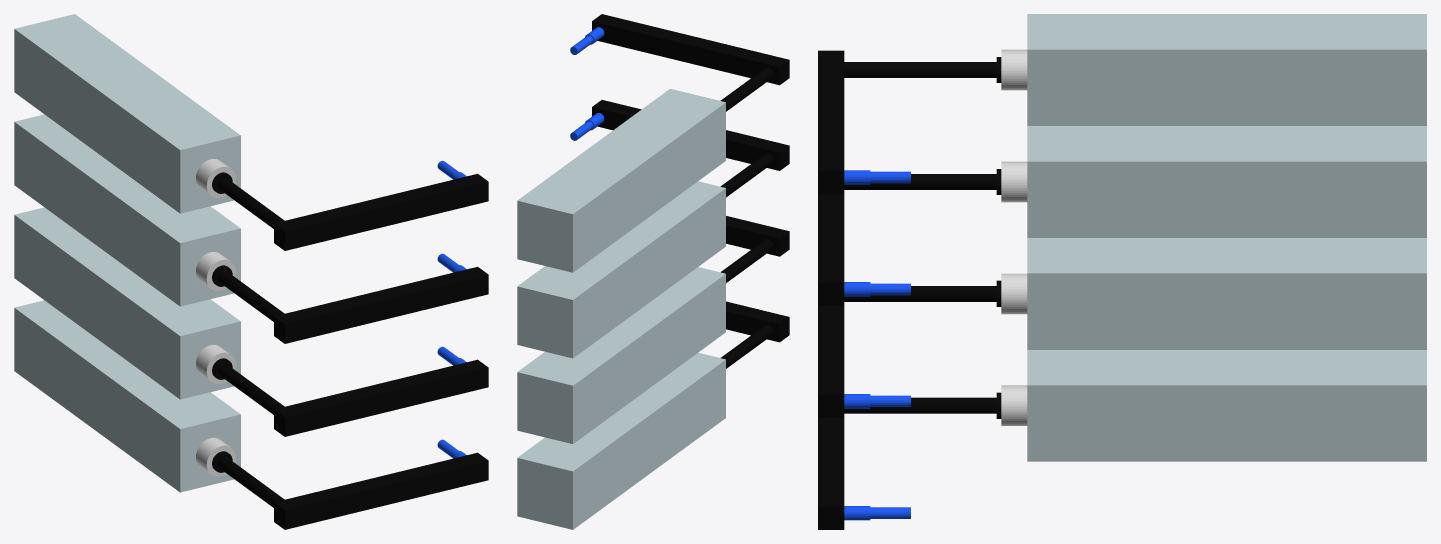
File: azas_four_dispenser_row.obj
3 renders of one model, left to right at view 1: azimuth 30°, elevation 25°; view 2: azimuth 150°, elevation 25°; view 3: azimuth 270°, elevation 25°, orthographic. The views are drawn at different scales.
Visible parts, largest first — view 1: azas_four_dispenser_row; view 2: azas_four_dispenser_row; view 3: azas_four_dispenser_row.
Boxes of the visible parts, bbox=[...] form: azas_four_dispenser_row: bbox=[14, 14, 488, 529]; azas_four_dispenser_row: bbox=[517, 14, 789, 529]; azas_four_dispenser_row: bbox=[818, 14, 1426, 529].
Size of the model in its own units: 0.212 by 0.313 by 0.419.
